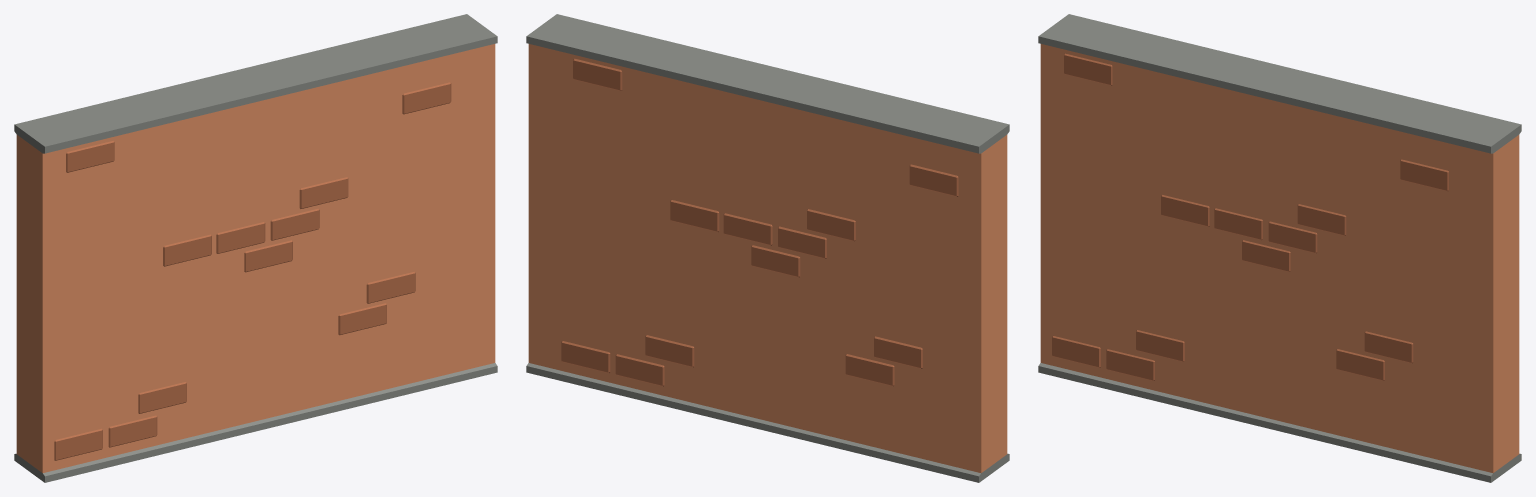
Rendered from SandWall2.fbx.
The picture shows the model from 3 angles, left to right: view 1: azimuth 30°, elevation 25°; view 2: azimuth 150°, elevation 25°; view 3: azimuth 330°, elevation 25°; orthographic projection.
Parts seen in each view (by area): view 1: Cube; view 2: Cube; view 3: Cube.
Part boxes in pixels (x1=…): Cube: x1=14, y1=14, x2=497, y2=482; Cube: x1=526, y1=14, x2=1009, y2=482; Cube: x1=1038, y1=14, x2=1521, y2=482.
Size of the model in its own units: 2000 by 1420 by 233.
